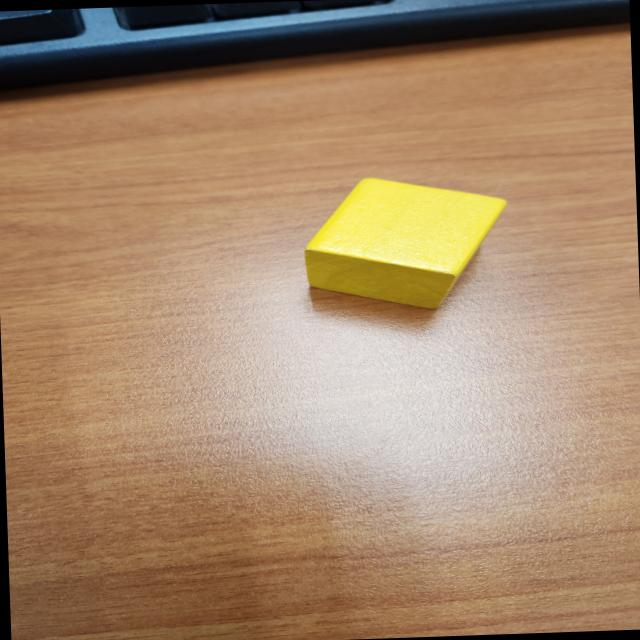yellow: (296, 172, 514, 320)
